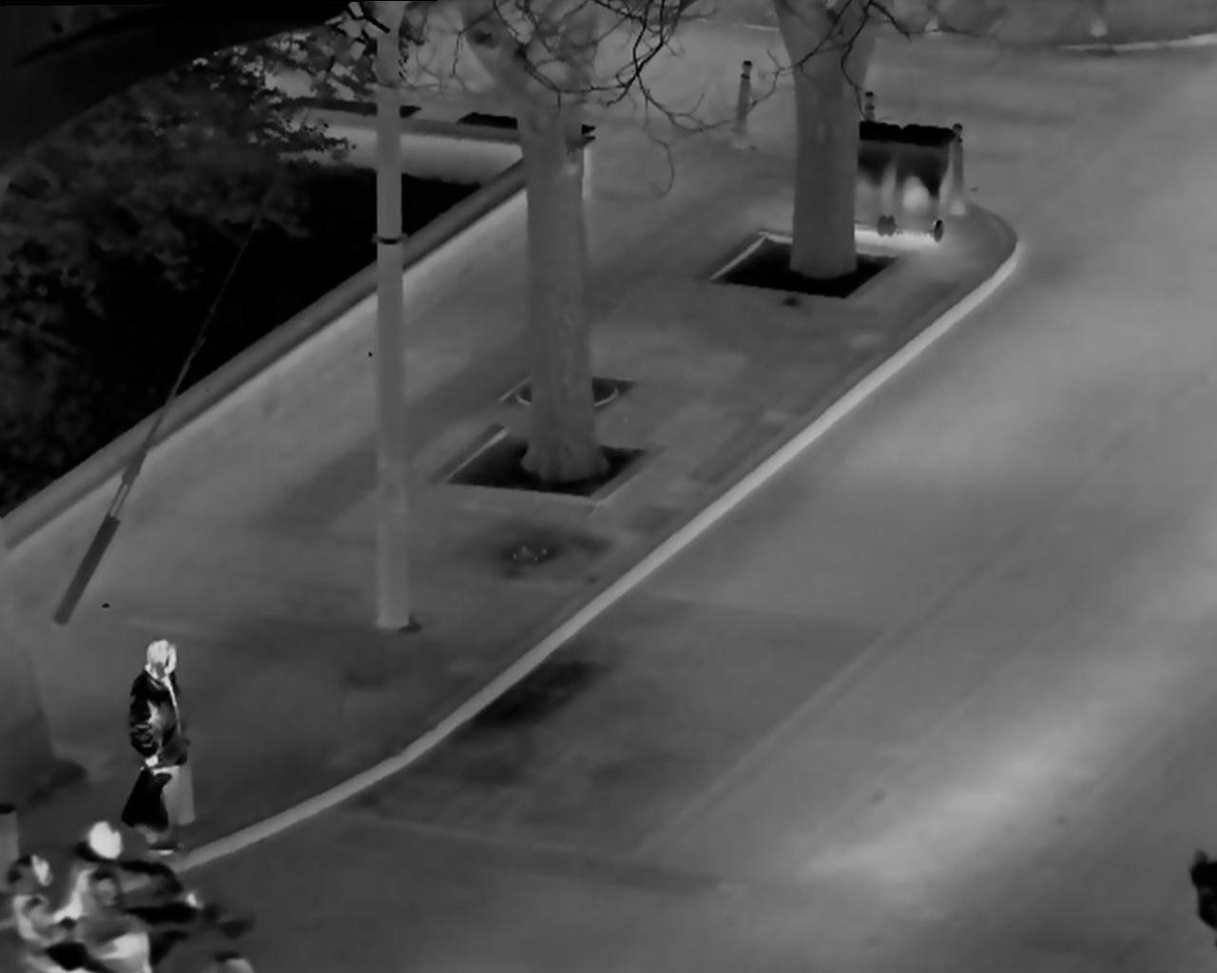person: (111, 633, 227, 861), (62, 811, 183, 973), (5, 851, 86, 973)
